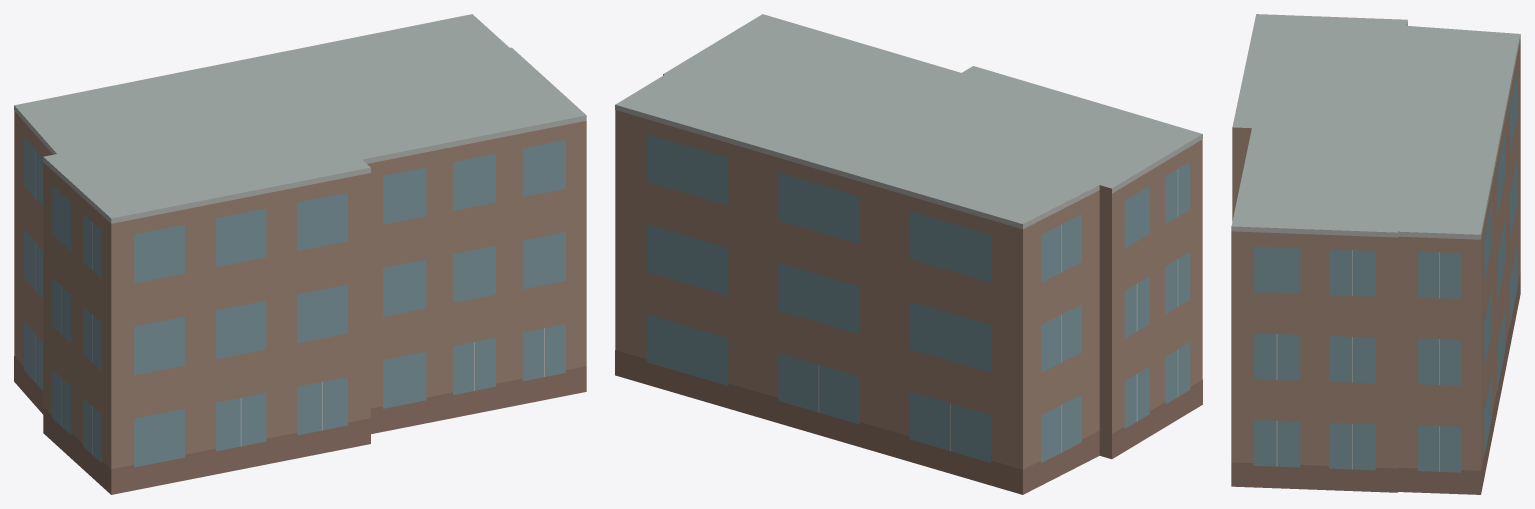
The model's file is survey-upis-32934695.glb.
The picture shows the model from 3 angles, left to right: view 1: azimuth 30°, elevation 25°; view 2: azimuth 150°, elevation 25°; view 3: azimuth 270°, elevation 25°; orthographic projection. The views are drawn at different scales.
Visible parts, largest first — view 1: survey-upis-32934695.tmp; view 2: survey-upis-32934695.tmp; view 3: survey-upis-32934695.tmp.
Part boxes in pixels (x1,y1,x2,y2): survey-upis-32934695.tmp: (14, 14, 586, 494); survey-upis-32934695.tmp: (615, 14, 1202, 494); survey-upis-32934695.tmp: (1231, 14, 1520, 494).
Size of the model in its own units: 23.3 by 12.8 by 12.9.
